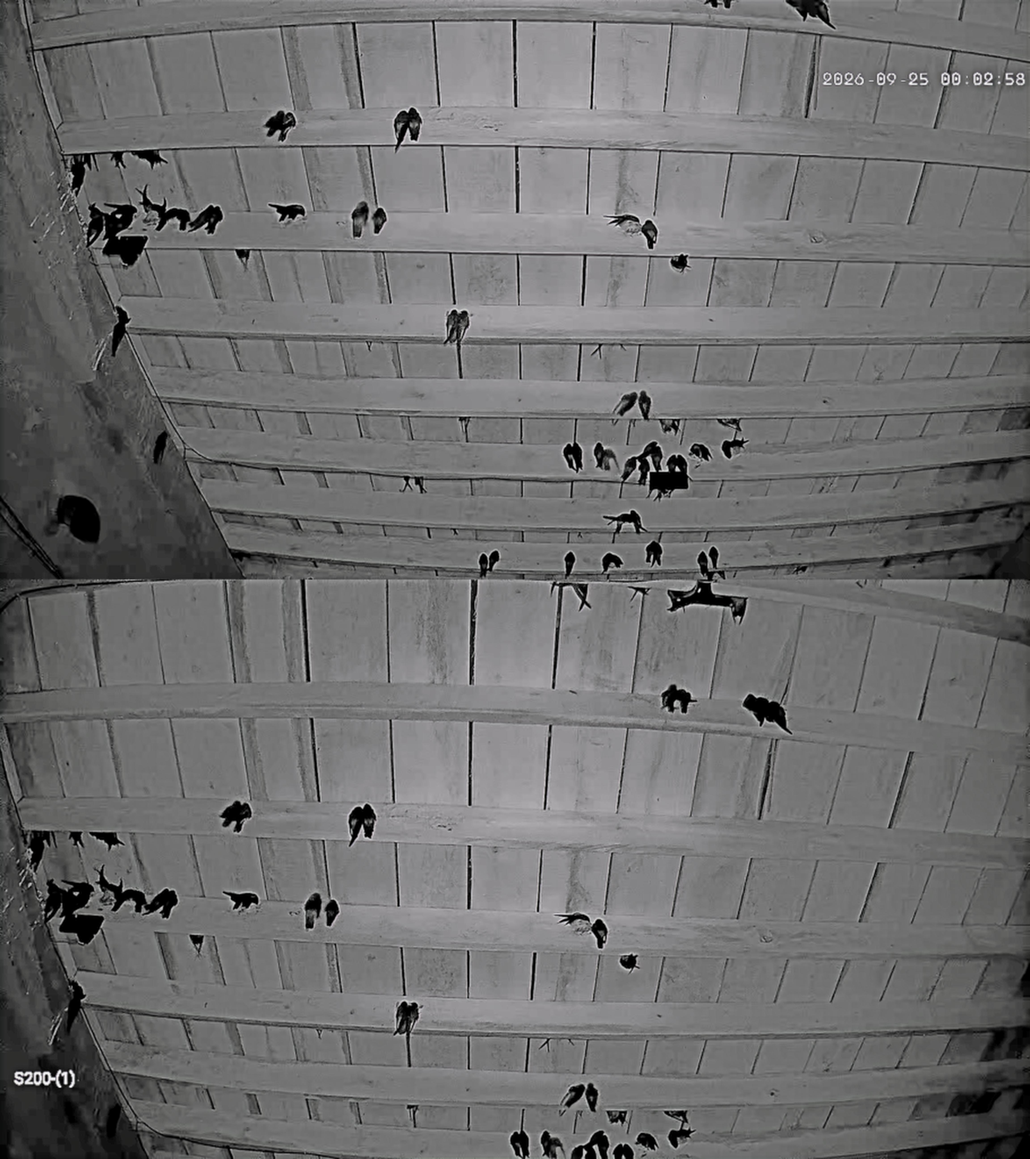swallow bird: (742, 693, 792, 734), (786, 0, 835, 28), (62, 879, 95, 918), (105, 203, 138, 240), (395, 107, 422, 152), (220, 800, 252, 833), (264, 110, 297, 142), (661, 683, 695, 714), (144, 888, 178, 919), (604, 510, 647, 534), (28, 831, 53, 872), (66, 980, 85, 1033), (68, 155, 93, 194), (62, 879, 95, 908), (394, 1001, 419, 1039), (86, 203, 107, 246), (559, 1084, 586, 1116), (44, 880, 65, 921), (743, 693, 769, 726), (112, 889, 146, 914), (157, 207, 192, 231), (268, 202, 306, 224), (767, 701, 792, 734), (98, 866, 123, 899), (90, 831, 129, 852), (107, 879, 131, 912), (638, 440, 663, 471), (136, 184, 161, 215), (188, 205, 217, 231), (556, 912, 591, 933), (130, 150, 168, 169), (540, 1130, 564, 1159), (609, 214, 642, 235), (612, 391, 638, 417), (351, 201, 369, 238), (224, 891, 259, 910), (304, 892, 321, 930), (721, 436, 749, 459), (348, 806, 363, 846), (152, 430, 169, 465), (637, 383, 653, 420), (394, 110, 408, 152), (589, 1130, 609, 1159), (105, 1103, 121, 1139), (205, 205, 224, 234), (510, 1129, 528, 1159), (572, 583, 592, 610), (406, 1001, 420, 1039), (641, 219, 658, 250), (591, 918, 608, 949), (361, 803, 376, 838), (444, 309, 459, 344), (708, 547, 724, 579), (393, 1001, 408, 1035), (407, 107, 422, 141), (669, 1127, 693, 1148), (664, 453, 688, 474), (597, 448, 618, 471), (456, 310, 469, 347), (666, 454, 688, 475), (729, 597, 746, 624), (324, 899, 340, 927), (602, 552, 622, 574), (688, 443, 712, 461), (645, 541, 662, 566), (372, 206, 387, 234), (697, 551, 711, 580), (637, 456, 651, 485), (670, 254, 691, 273), (635, 1132, 657, 1150), (562, 443, 576, 471), (621, 456, 636, 482), (571, 441, 583, 473), (618, 954, 639, 972), (663, 1110, 688, 1125), (716, 418, 741, 433), (612, 1142, 633, 1159), (510, 1132, 523, 1159), (593, 441, 605, 469), (235, 249, 251, 270), (189, 934, 204, 956), (606, 1110, 627, 1125), (659, 419, 680, 434), (406, 1104, 419, 1128), (631, 586, 650, 602), (458, 416, 470, 441), (564, 551, 575, 577), (488, 549, 500, 572), (584, 1141, 599, 1159), (110, 151, 125, 169), (550, 580, 568, 594), (478, 553, 488, 578), (400, 475, 413, 493), (69, 831, 82, 848), (570, 1145, 585, 1159), (709, 547, 718, 570), (591, 344, 603, 358), (703, 0, 719, 9), (538, 1038, 551, 1049), (565, 1038, 574, 1045), (208, 226, 214, 233)
